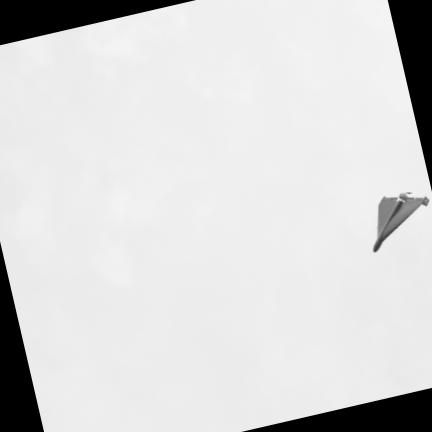Shahed: (374, 193, 428, 251)
